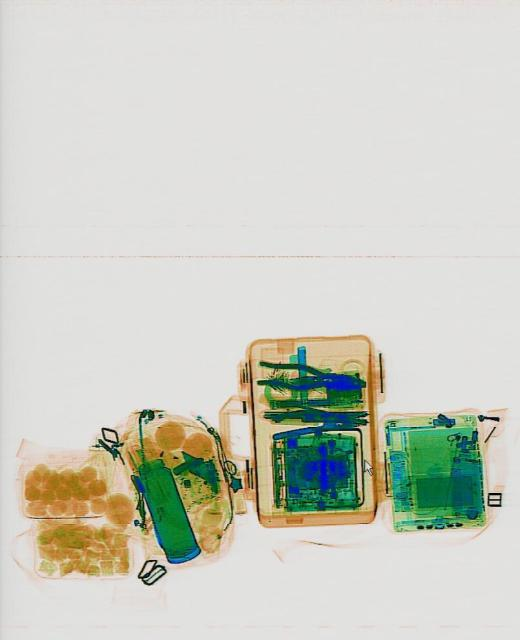Pliers: (256, 357, 364, 395)
